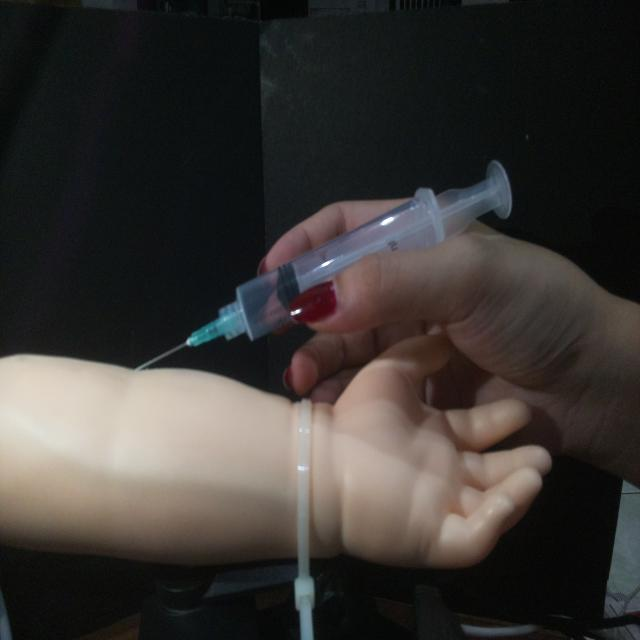22deg: (131, 154, 517, 373)
